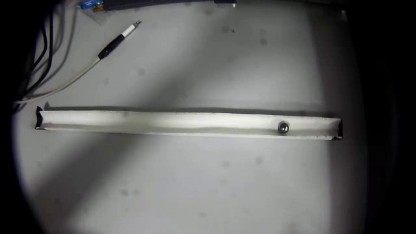gangzhu: (276, 121, 290, 135)
